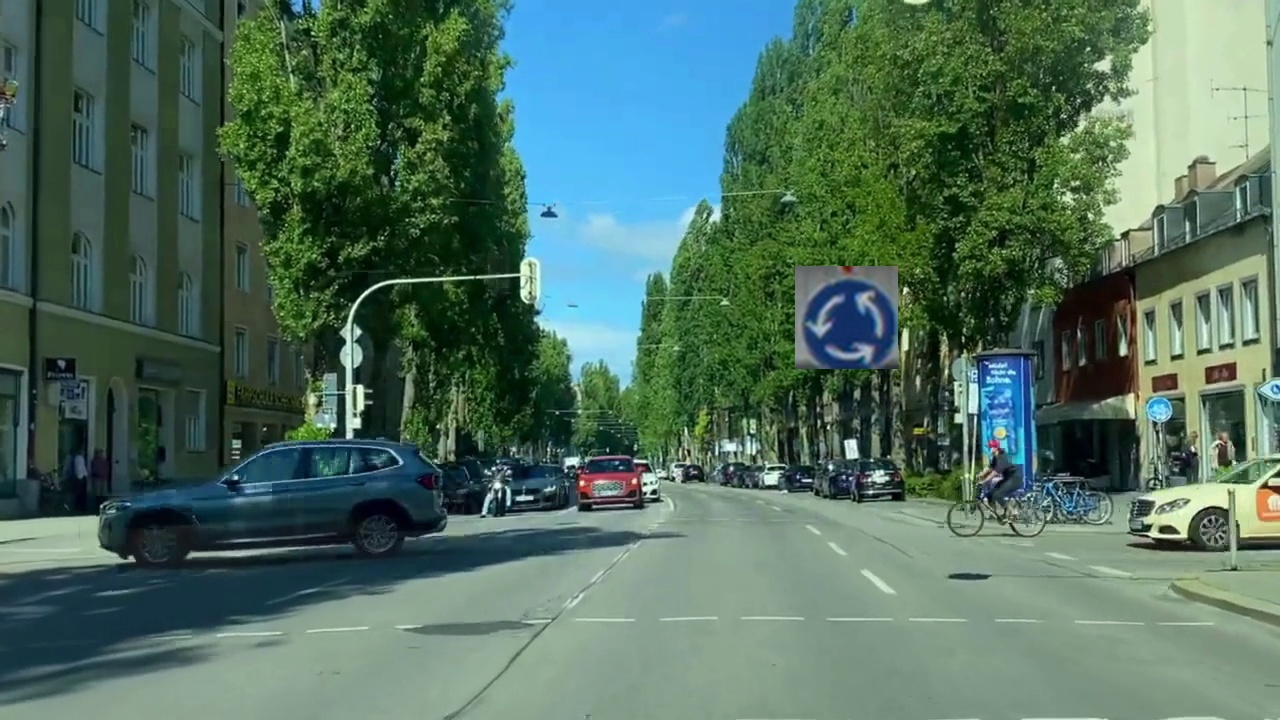Roundabout: (795, 266, 898, 369)
